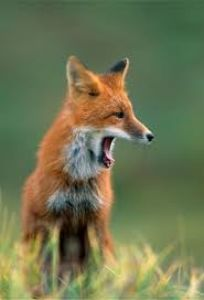fox: (28, 47, 168, 284)
